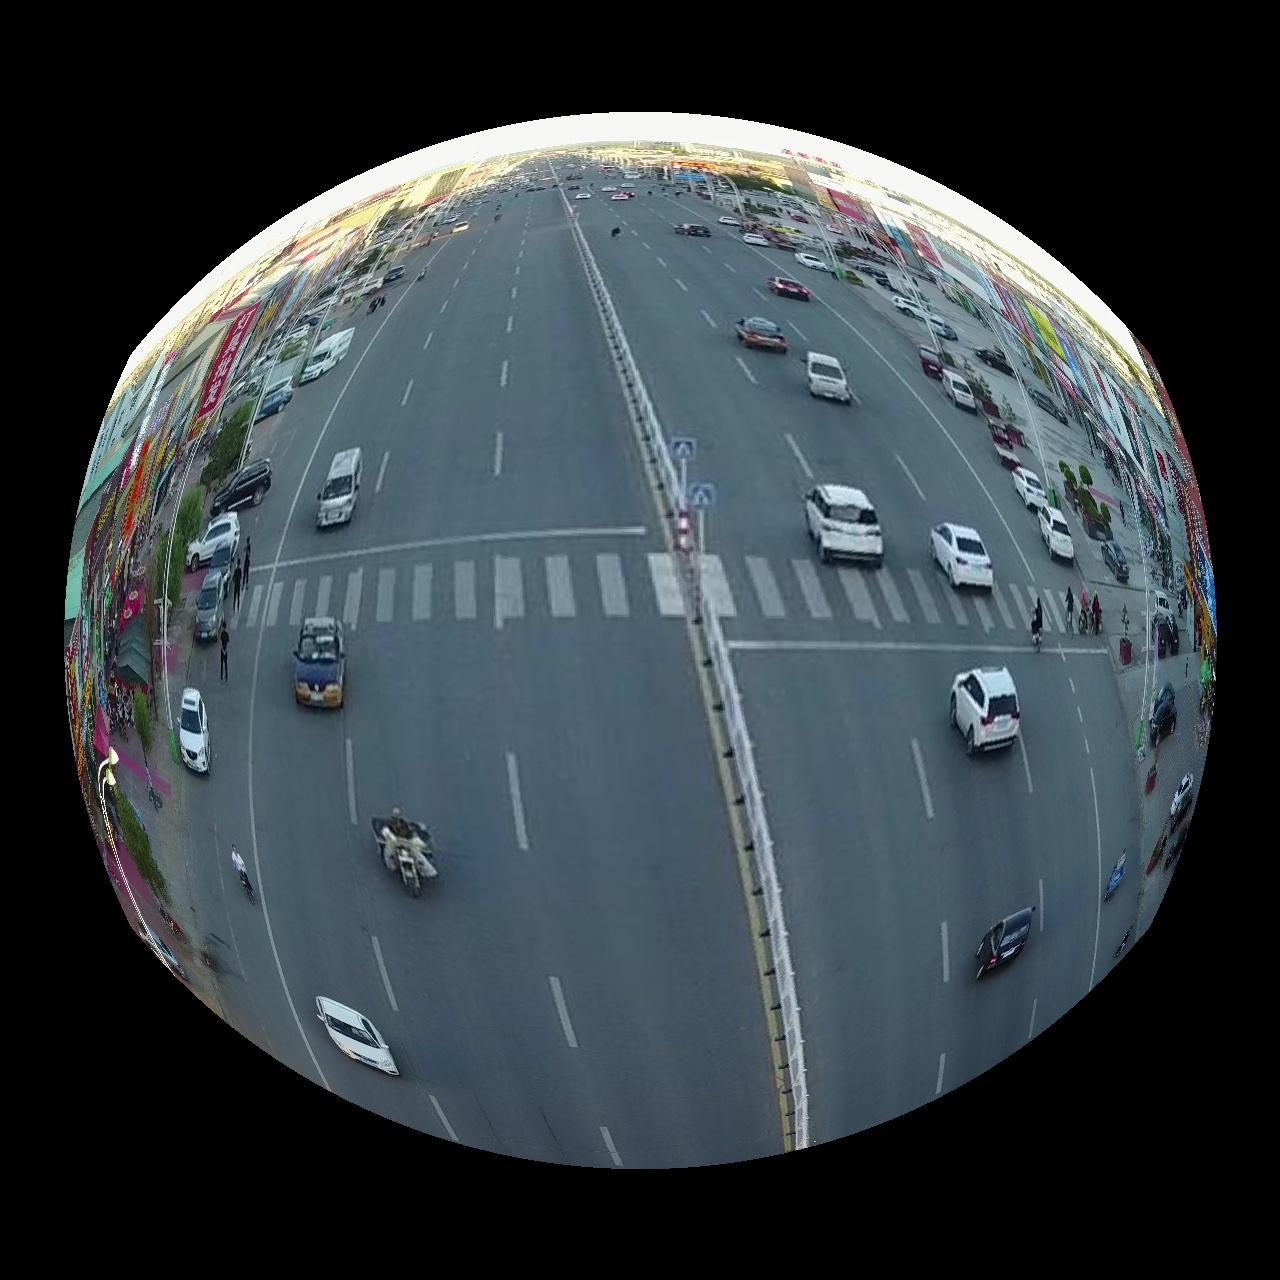cars: (315, 999, 399, 1077), (806, 483, 885, 566), (951, 667, 1022, 756), (292, 617, 345, 708), (931, 522, 995, 588), (978, 908, 1036, 980), (315, 447, 362, 527), (209, 459, 271, 517), (183, 512, 239, 572), (177, 688, 210, 775), (805, 350, 856, 403), (193, 568, 229, 641), (1040, 505, 1077, 560), (737, 316, 790, 353), (1014, 467, 1050, 511), (767, 275, 813, 301)
